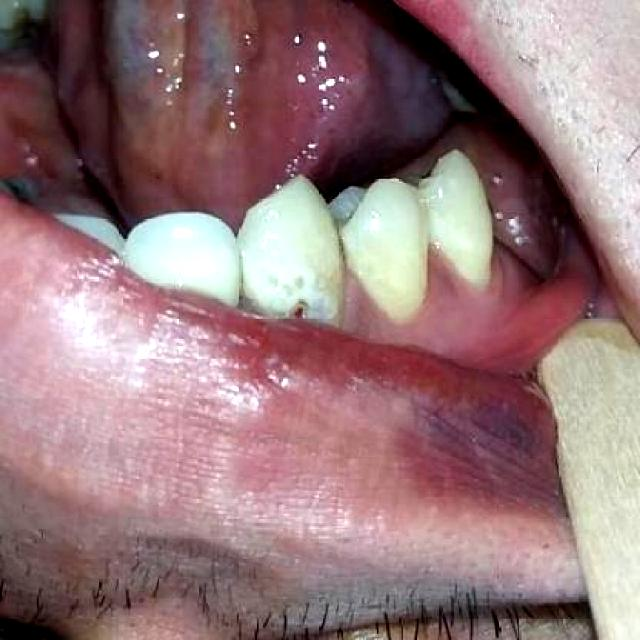Plaque: (286, 300, 314, 322)
